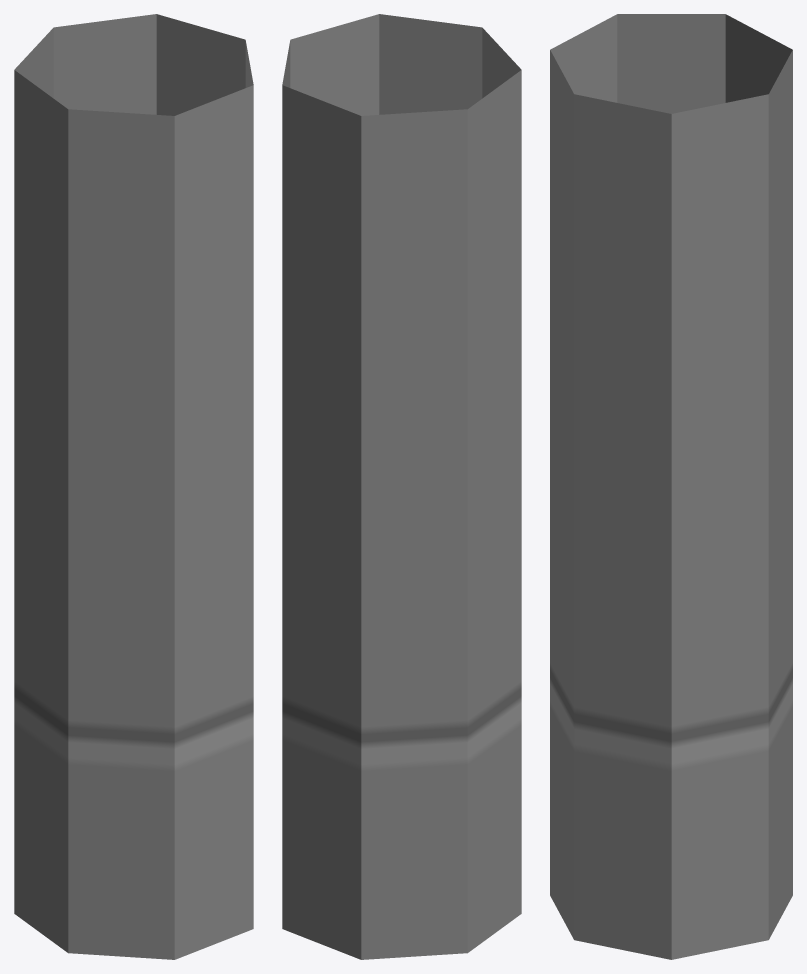
File: co_Street_Pillar_03.fbx
3 views of the same model, side by side, from view 1: azimuth 30°, elevation 25°; view 2: azimuth 150°, elevation 25°; view 3: azimuth 270°, elevation 25° (orthographic).
Parts seen in each view (by area): view 1: Street_Pillar_03; view 2: Street_Pillar_03; view 3: Street_Pillar_03.
Part boxes in pixels (box(x1,y1,x2,y2)): Street_Pillar_03: box(14, 14, 253, 959); Street_Pillar_03: box(282, 14, 521, 959); Street_Pillar_03: box(550, 14, 792, 959).
Bounding box in the file's own units: 190 × 750 × 195.
